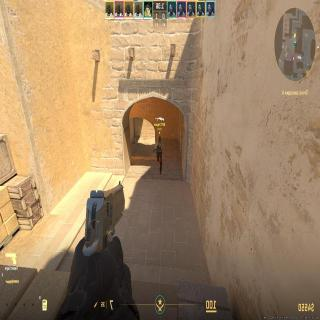T-Body: (154, 133, 164, 171)
T-Head: (158, 136, 162, 143)
